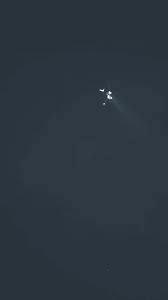Plane: (85, 73, 147, 129)
